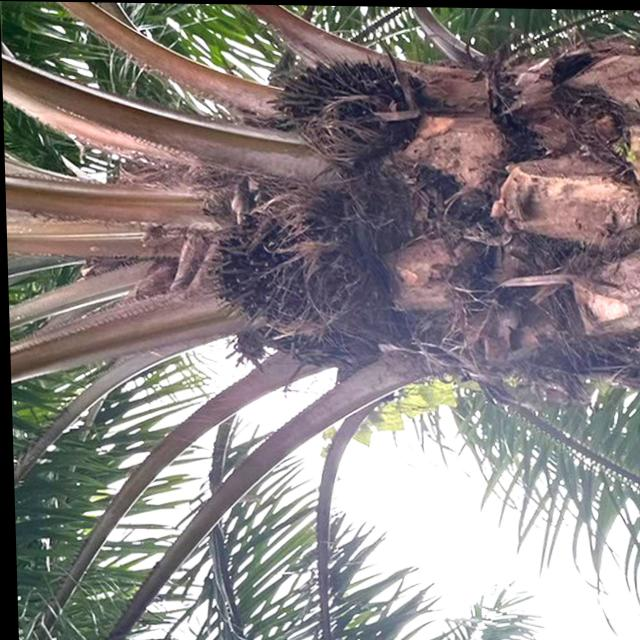ripe: (203, 190, 370, 372), (264, 61, 412, 160)
